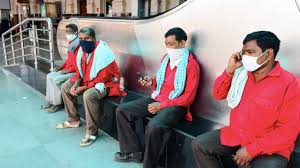Social Distance: (133, 29, 287, 161)
